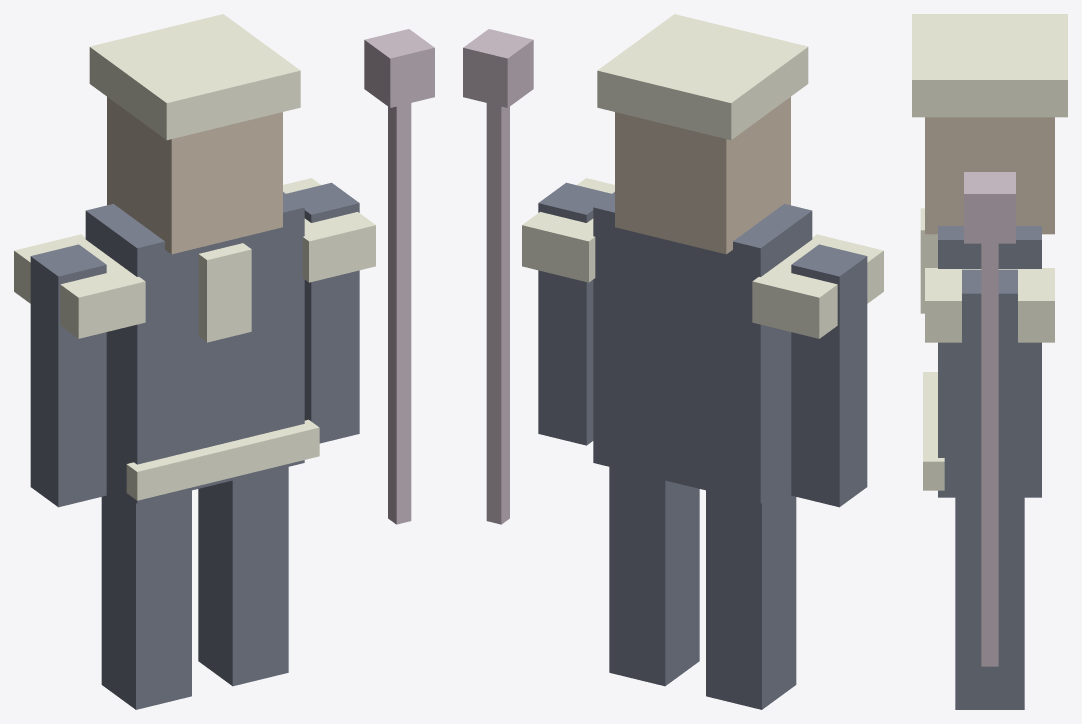
Rendered from 16_keir_emberkin_runner_near_defense.glb.
The picture shows the model from 3 angles, left to right: view 1: azimuth 30°, elevation 25°; view 2: azimuth 150°, elevation 25°; view 3: azimuth 270°, elevation 25°; orthographic projection.
Parts seen in each view (by area): view 1: Keir Emberkin, Runner near Defense; view 2: Keir Emberkin, Runner near Defense; view 3: Keir Emberkin, Runner near Defense.
Boxes of the visible parts, x1,y1,x2,y2 form: Keir Emberkin, Runner near Defense: (14,14,434,709); Keir Emberkin, Runner near Defense: (463,14,883,709); Keir Emberkin, Runner near Defense: (912,14,1067,709).
Size of the model in its own units: 0.9965 by 1.56 by 0.3534.
